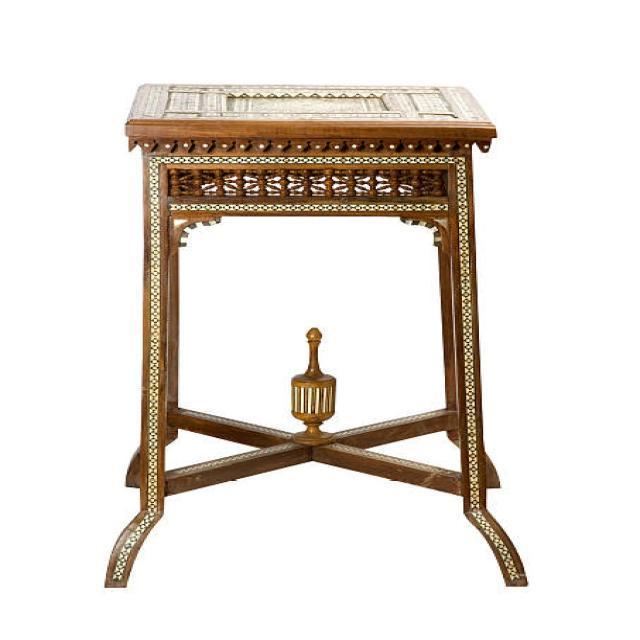table: (103, 82, 529, 588)
